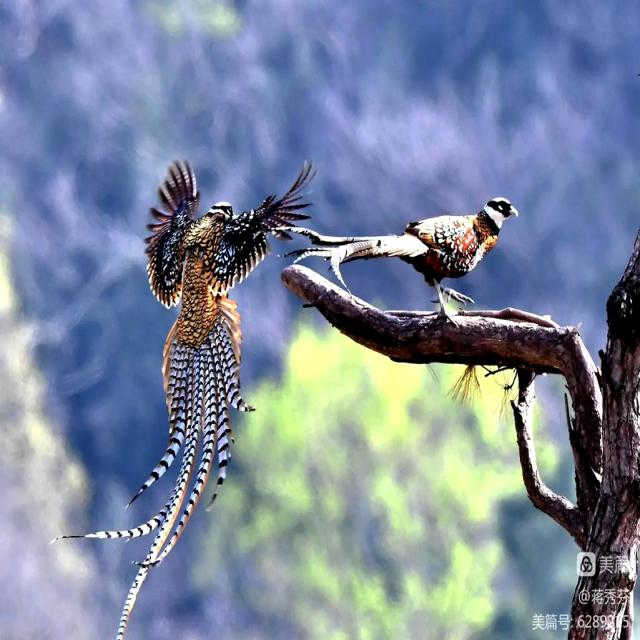Reeves-s Pheasant: (50, 298, 256, 640)
